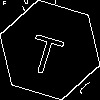T: (25, 25, 68, 78)
